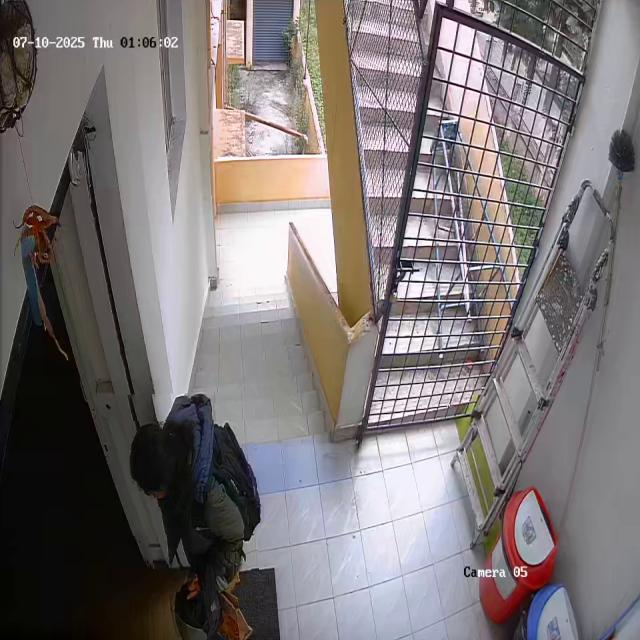person: (126, 391, 258, 592)
